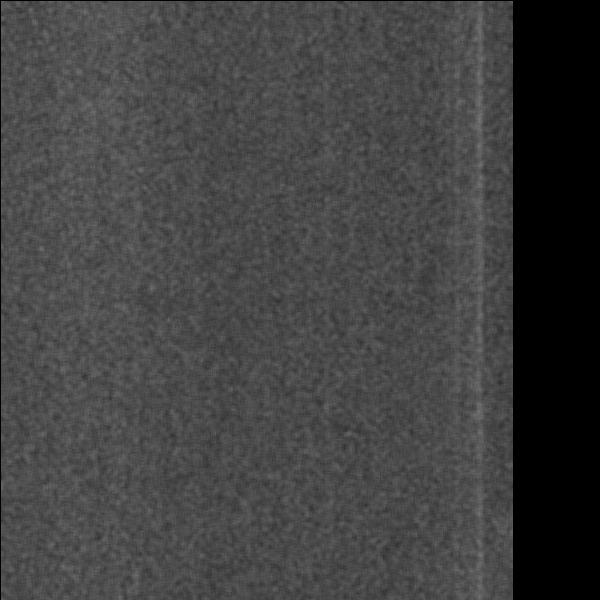spark: (471, 178, 509, 255), (468, 434, 505, 477), (502, 577, 514, 598)
